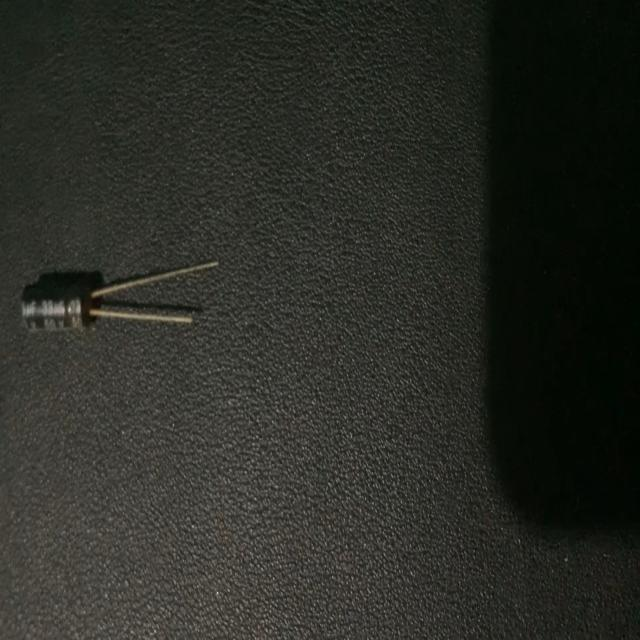capacitor: (19, 259, 219, 334)
